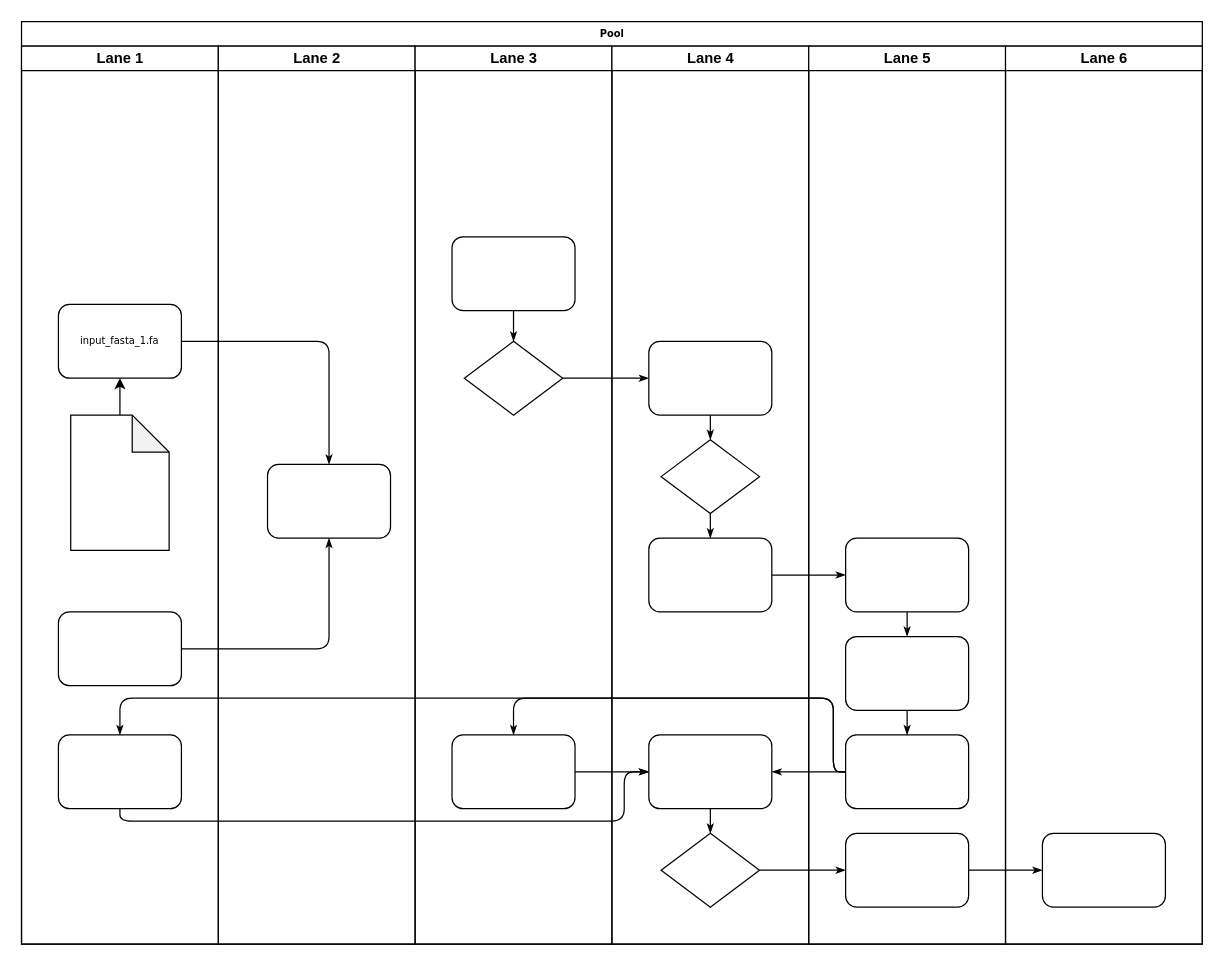
This 1224x966 diagram has some shape labels left out. Each missing label, with the centre of its shape:
contig_1 contig_2 contig_k: pixel 119 482
input_fasta_2.fa: pixel 119 648
input_fasta_k_.fa: pixel 119 771
